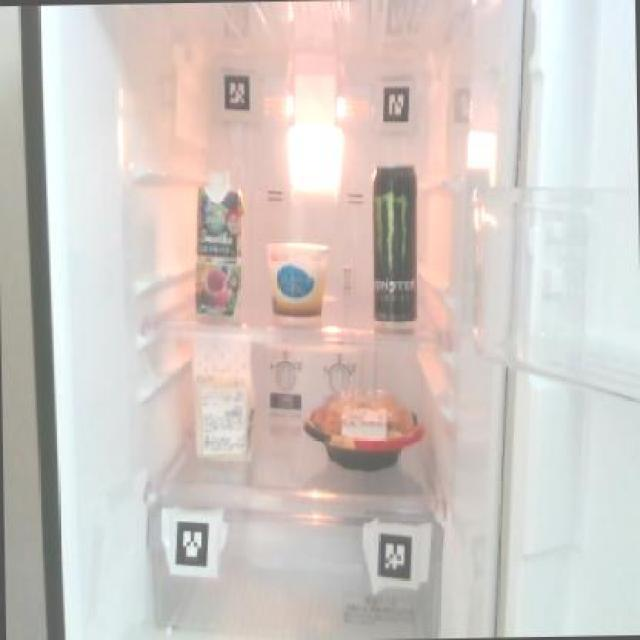bento: (300, 388, 425, 476)
energy_drink: (370, 156, 418, 324)
pudding: (262, 235, 332, 320)
sandwich: (189, 328, 262, 462)
smoothie: (191, 166, 246, 320)
